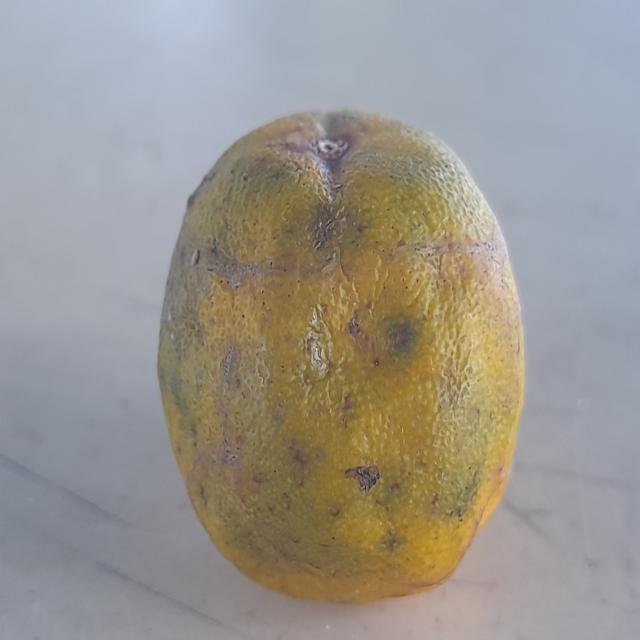black spot: (140, 114, 531, 609)
